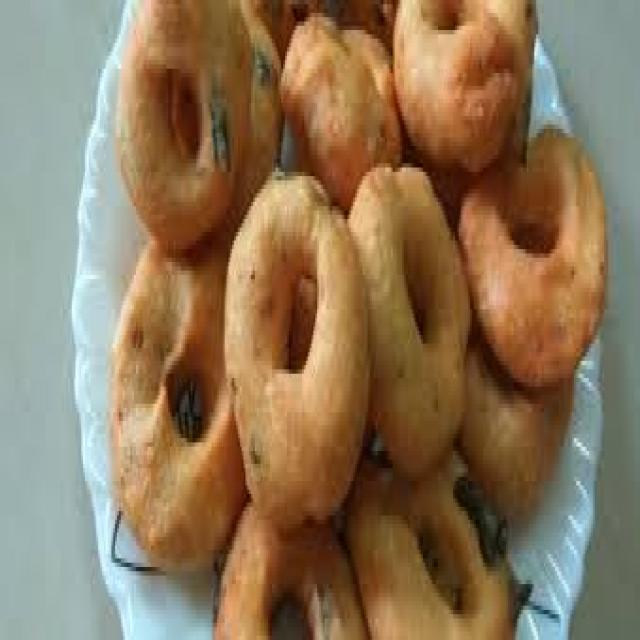MEDU VADA: (222, 172, 370, 530), (111, 227, 243, 561), (465, 125, 611, 379), (350, 165, 469, 473), (116, 0, 252, 260), (346, 456, 512, 636), (392, 0, 540, 170), (279, 12, 402, 204), (212, 504, 366, 636), (458, 345, 575, 516)
